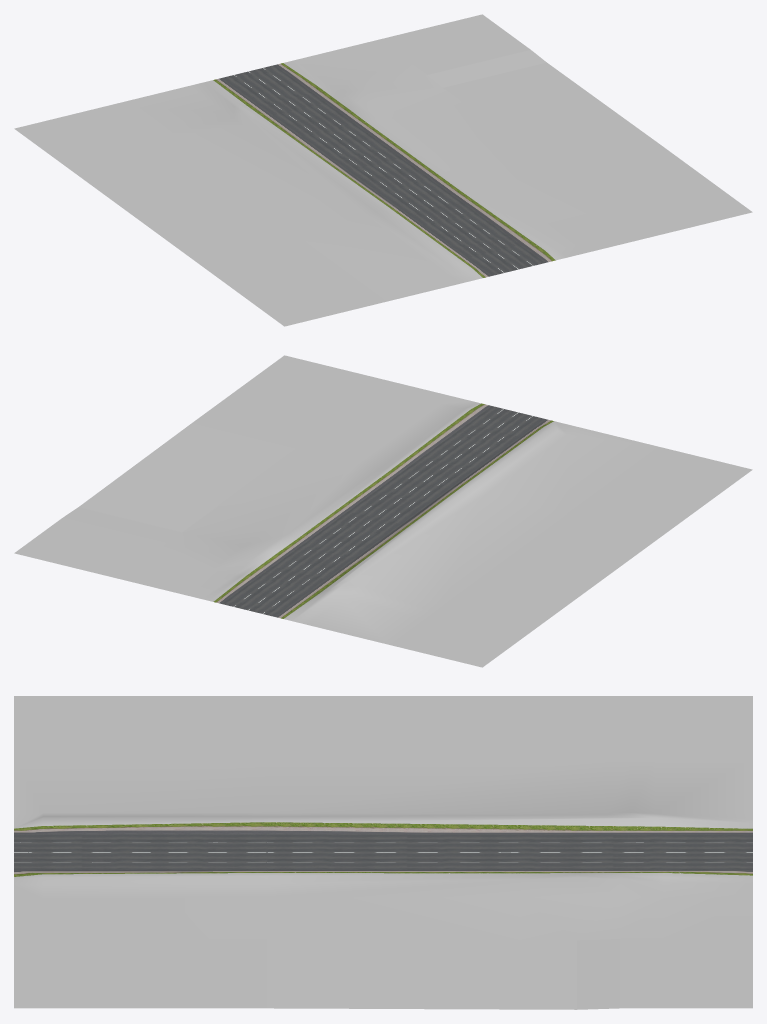
The model's file is road.FBX.
3 renders of one model, top to bottom at view 1: azimuth 30°, elevation 25°; view 2: azimuth 150°, elevation 25°; view 3: azimuth 270°, elevation 25°, orthographic. The views are drawn at different scales.
Parts seen in each view (by area): view 1: road; view 2: road; view 3: road.
Part boxes in pixels (box(x1,y1,x2,y2)): road: box(14, 14, 752, 326); road: box(14, 355, 752, 667); road: box(14, 696, 752, 1009).
Size of the model in its own units: 12000 by 135 by 12000.
